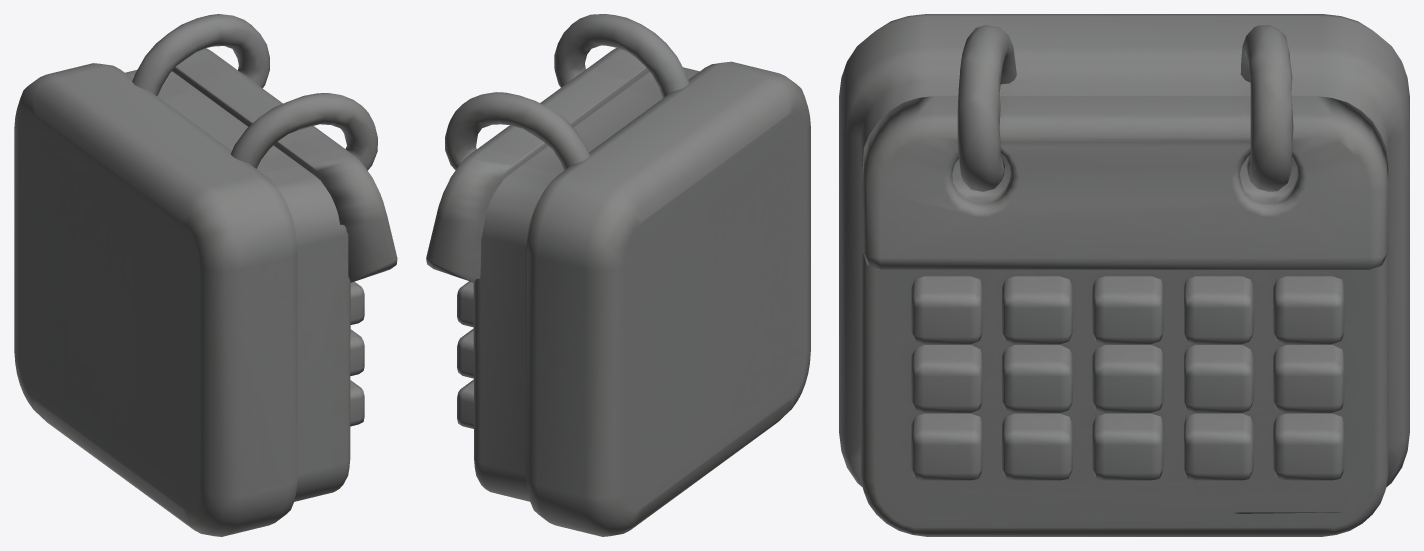
The model's file is icon-calendar.glb.
The picture shows the model from 3 angles, left to right: view 1: azimuth 30°, elevation 25°; view 2: azimuth 150°, elevation 25°; view 3: azimuth 270°, elevation 25°; orthographic projection. The views are drawn at different scales.
Parts seen in each view (by area): view 1: tripo_node_kodyurd-model-28____________________; view 2: tripo_node_kodyurd-model-28____________________; view 3: tripo_node_kodyurd-model-28____________________.
Part boxes in pixels (x1,y1,x2,y2): tripo_node_kodyurd-model-28____________________: (14,14,397,536); tripo_node_kodyurd-model-28____________________: (426,14,810,536); tripo_node_kodyurd-model-28____________________: (839,14,1409,536).
Bounding box in the file's own units: 0.5723 × 0.998 × 0.9863.
1 material, 1 textured.
